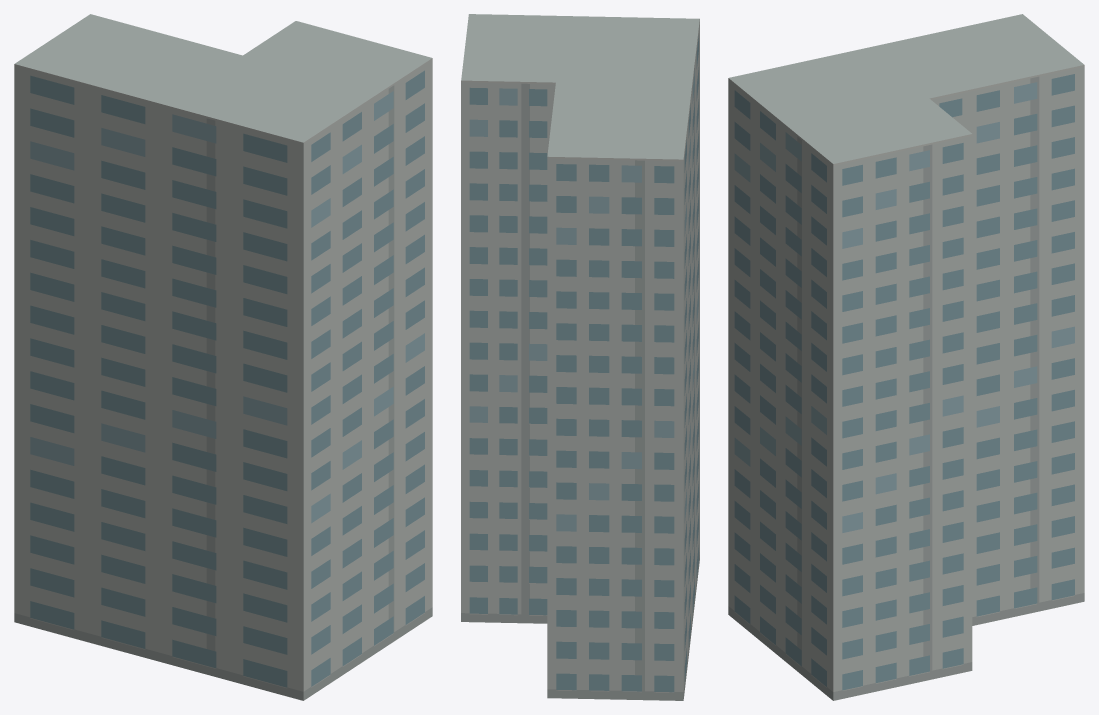
Rendered from residential-65a9c43c-78dc-4800-b548-7a4e2b48cf59.glb.
3 renders of one model, left to right at view 1: azimuth 30°, elevation 25°; view 2: azimuth 150°, elevation 25°; view 3: azimuth 270°, elevation 25°, orthographic. The views are drawn at different scales.
Parts seen in each view (by area): view 1: residential-65a9c43c-78dc-4800-b548-7a4e2b48cf59.tmp; view 2: residential-65a9c43c-78dc-4800-b548-7a4e2b48cf59.tmp; view 3: residential-65a9c43c-78dc-4800-b548-7a4e2b48cf59.tmp.
Part boxes in pixels (x1,y1,x2,y2): residential-65a9c43c-78dc-4800-b548-7a4e2b48cf59.tmp: (14,14,432,700); residential-65a9c43c-78dc-4800-b548-7a4e2b48cf59.tmp: (461,14,699,700); residential-65a9c43c-78dc-4800-b548-7a4e2b48cf59.tmp: (728,14,1084,700).
Bounding box in the file's own units: 42.58 × 71 × 42.69.
